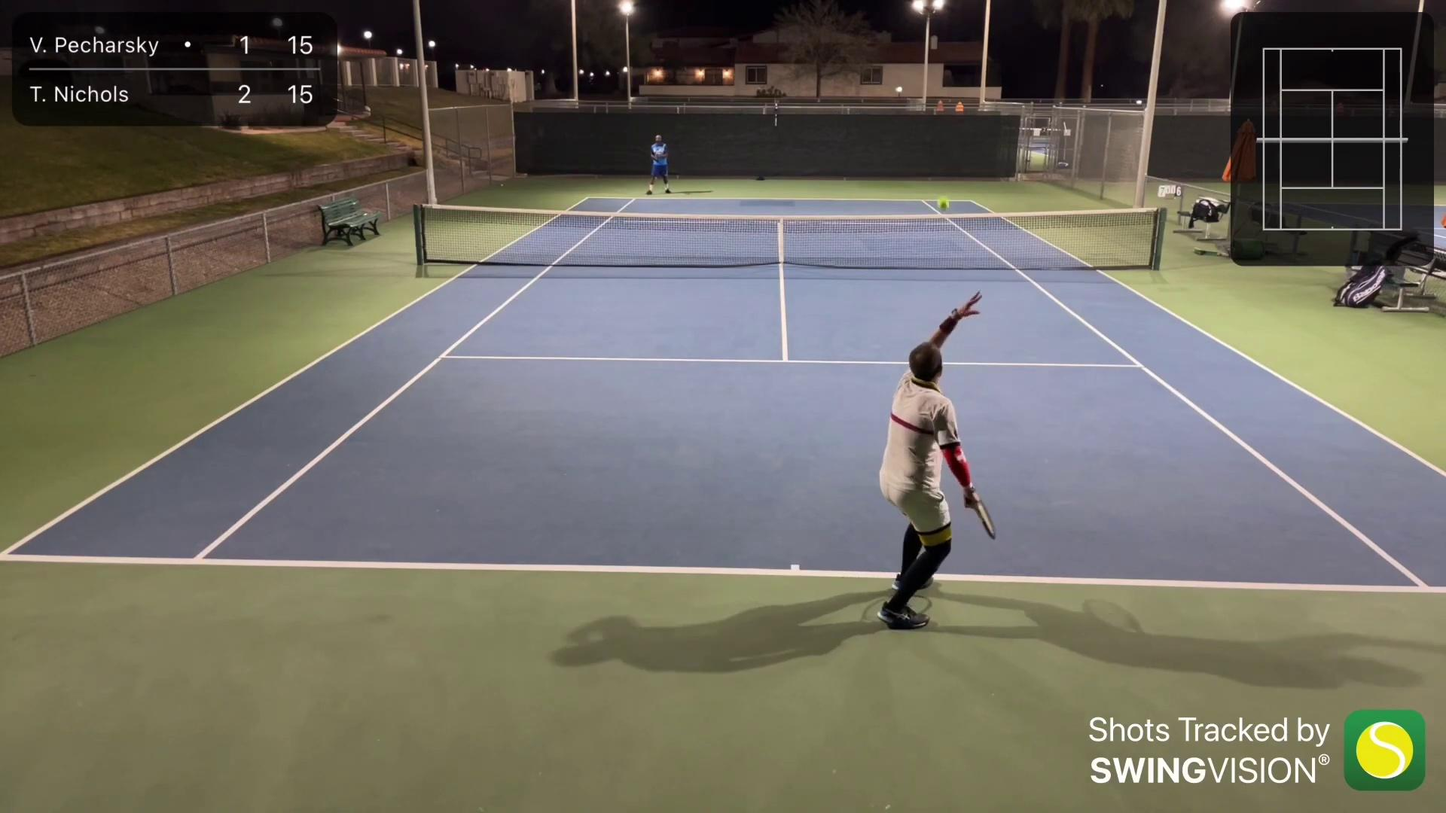ball: (937, 195, 951, 215), (500, 182, 506, 189), (1101, 83, 1104, 88)
